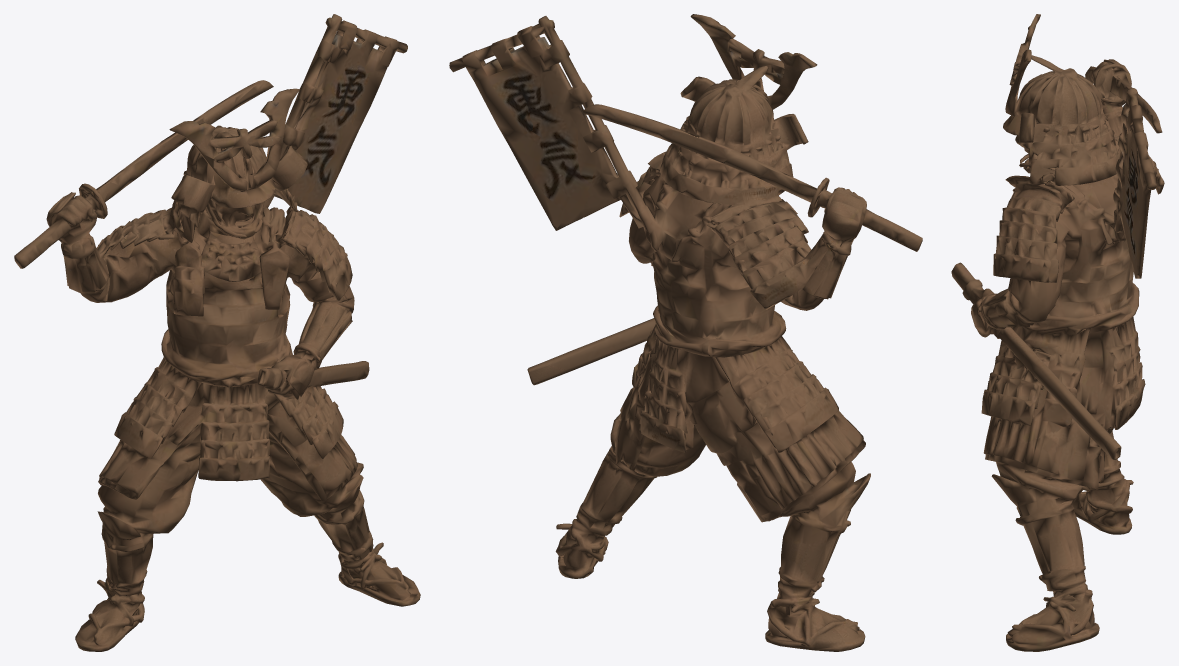
Rendered from samurai.glb.
3 renders of one model, left to right at view 1: azimuth 30°, elevation 25°; view 2: azimuth 150°, elevation 25°; view 3: azimuth 270°, elevation 25°, orthographic. The views are drawn at different scales.
Size of the model in its own units: 1.52 by 1.9 by 0.668.
1 material, 1 textured.
